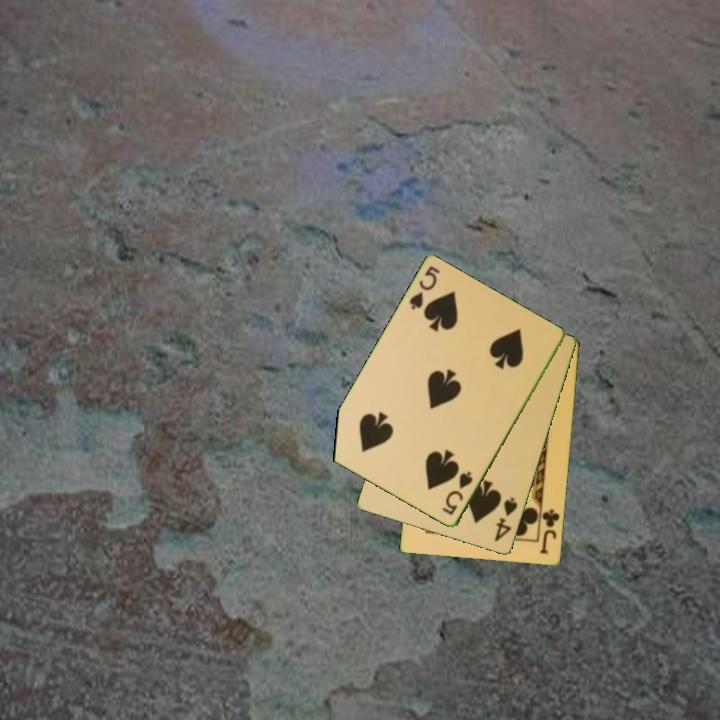4s: (491, 494, 521, 545)
5s: (405, 262, 443, 313), (439, 468, 476, 519)
Jc: (537, 506, 563, 557)
